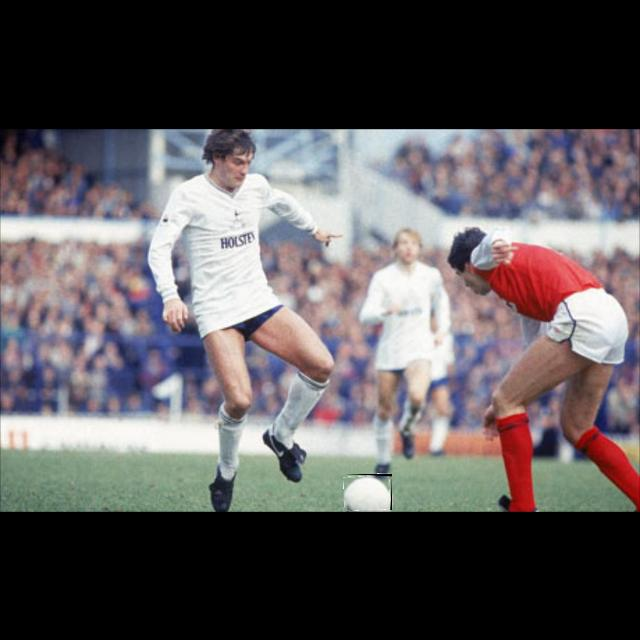Football: (344, 474, 392, 510)
